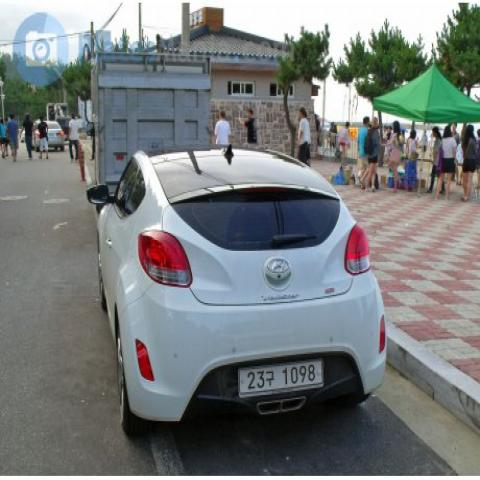LP: (235, 350, 326, 403)
